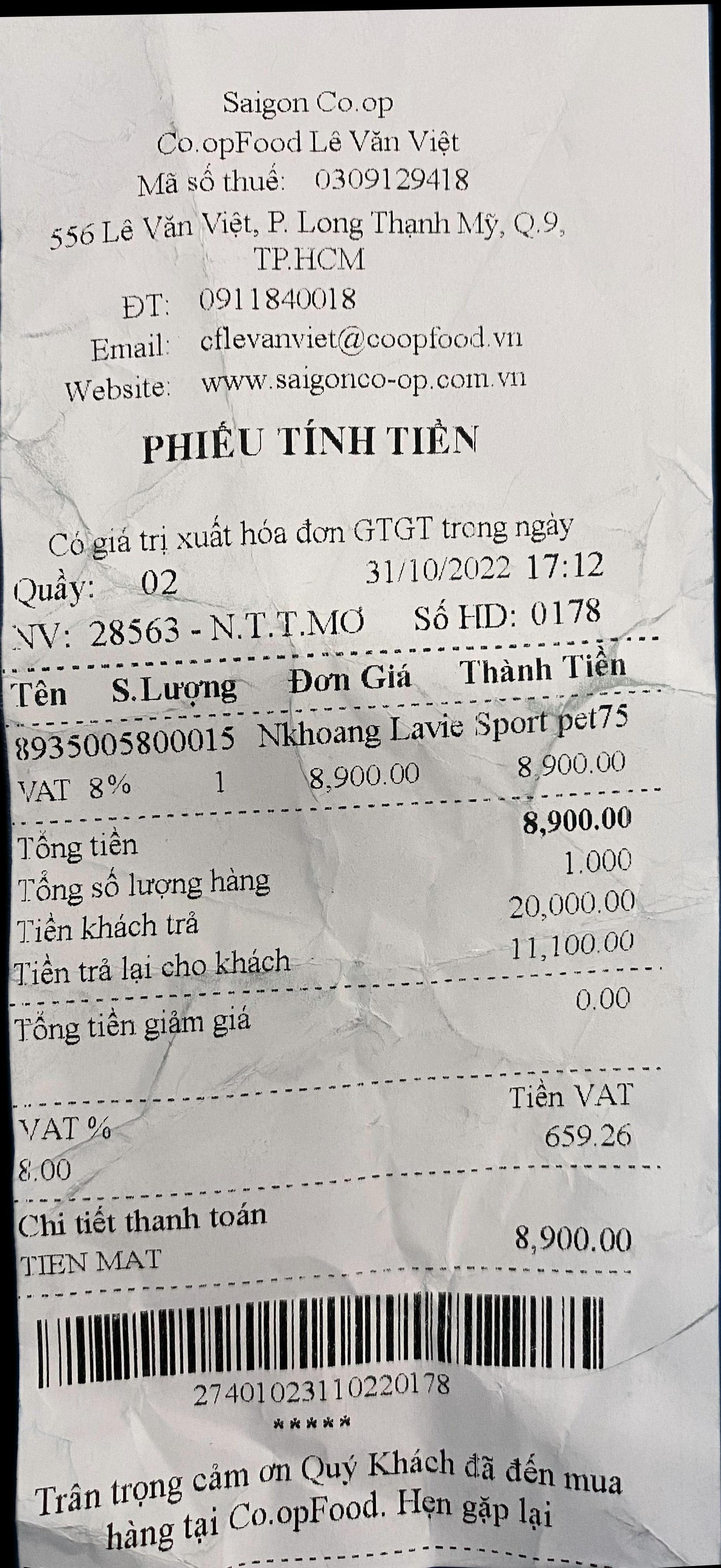Date: (348, 540, 522, 595)
Store_Name: (170, 82, 442, 127)
Total_Amount: (0, 800, 651, 855)
